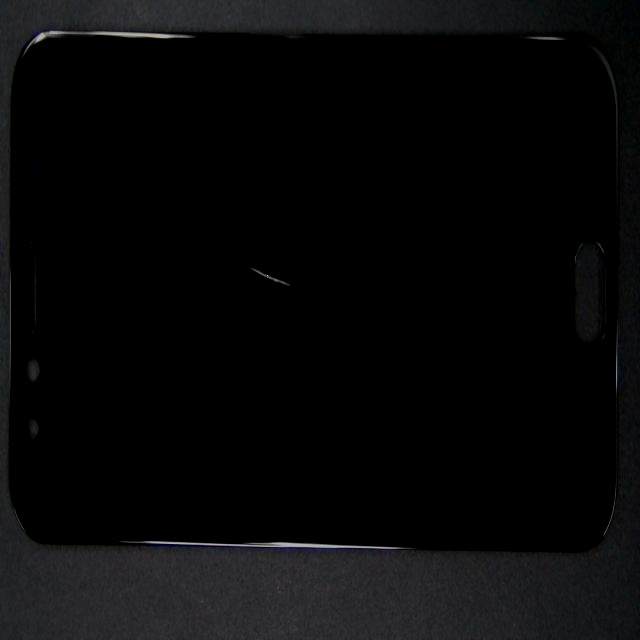scratch: (156, 148, 474, 444)
